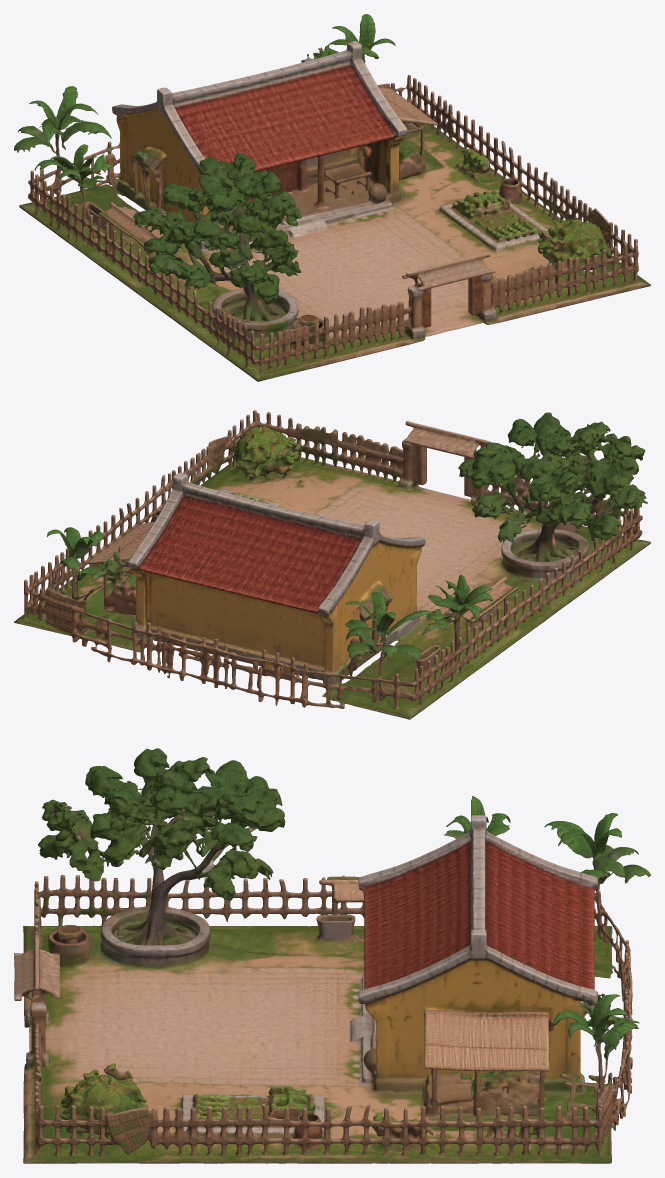
The model's file is Meshy_AI_Golden_Hearth_Courtya_1009035658_texture.glb.
3 renders of one model, top to bottom at view 1: azimuth 30°, elevation 25°; view 2: azimuth 150°, elevation 25°; view 3: azimuth 270°, elevation 25°, orthographic. The views are drawn at different scales.
Size of the model in its own units: 1.72 by 0.5918 by 1.73.
Materials: 1 (1 with a texture image).
